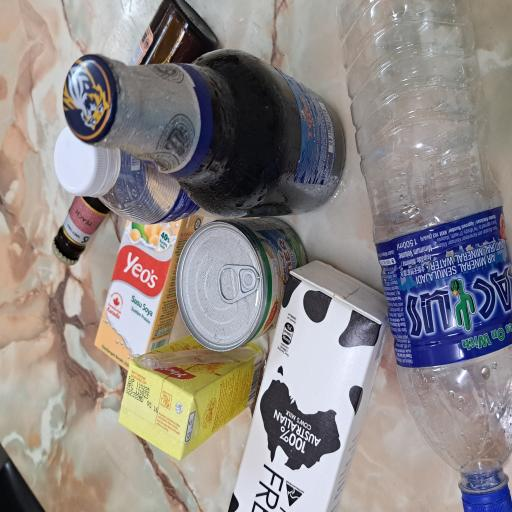can: (122, 238, 226, 412)
drink carton: (0, 297, 190, 512), (106, 125, 251, 266), (39, 150, 134, 348)
glass bottle: (222, 95, 343, 461), (188, 68, 384, 278)
plastic bottle: (27, 456, 384, 512), (217, 131, 301, 297)
plastic bottle cap: (235, 70, 293, 158)
pop tab: (156, 288, 186, 346)
